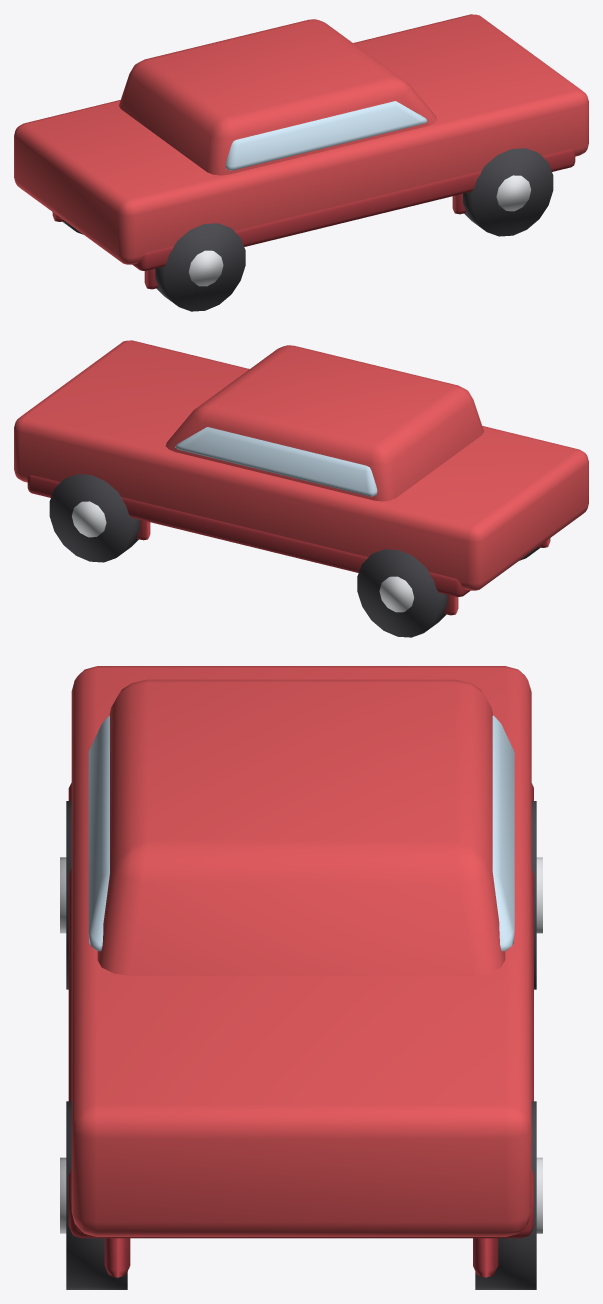
The model's file is car.glb.
3 renders of one model, top to bottom at view 1: azimuth 30°, elevation 25°; view 2: azimuth 150°, elevation 25°; view 3: azimuth 270°, elevation 25°, orthographic. The views are drawn at different scales.
Visible parts, largest first — view 1: SmartWashCar; view 2: SmartWashCar; view 3: SmartWashCar.
Boxes of the visible parts, x1,y1,x2,y2 form: SmartWashCar: (14,14,588,311); SmartWashCar: (14,340,588,637); SmartWashCar: (60,666,542,1289).
Bounding box in the file's own units: 4.24 × 1.46 × 1.89.
